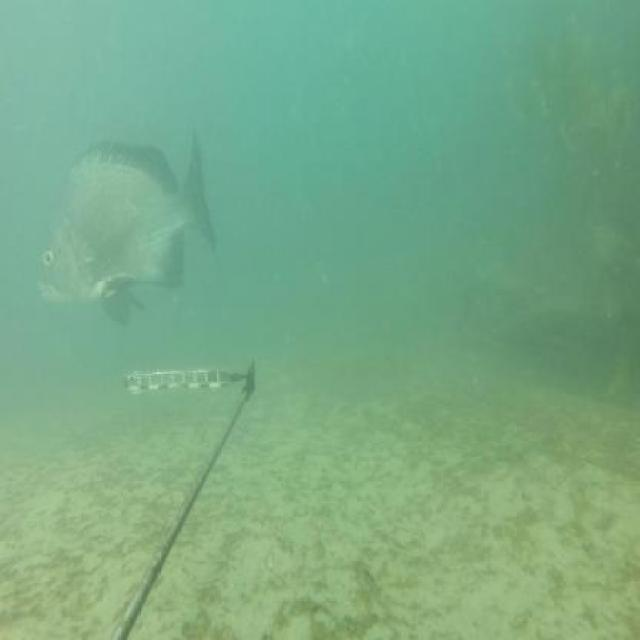acanthopagrus_palmaris: (35, 125, 220, 332)
